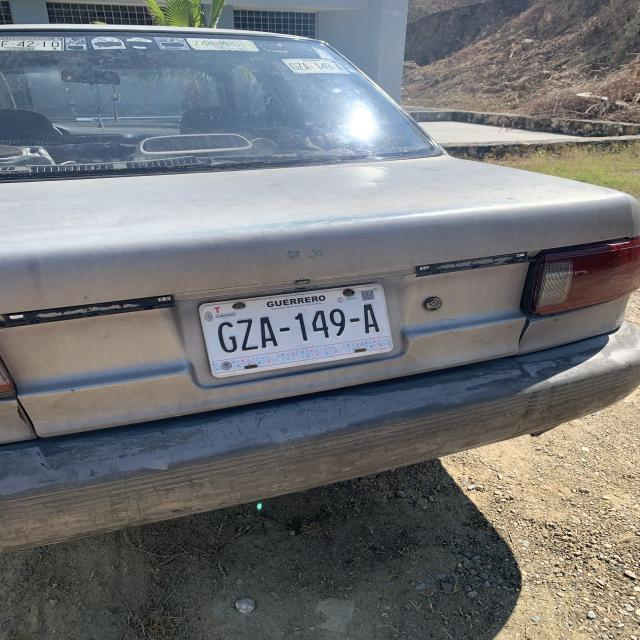placa: (208, 303, 388, 350)
